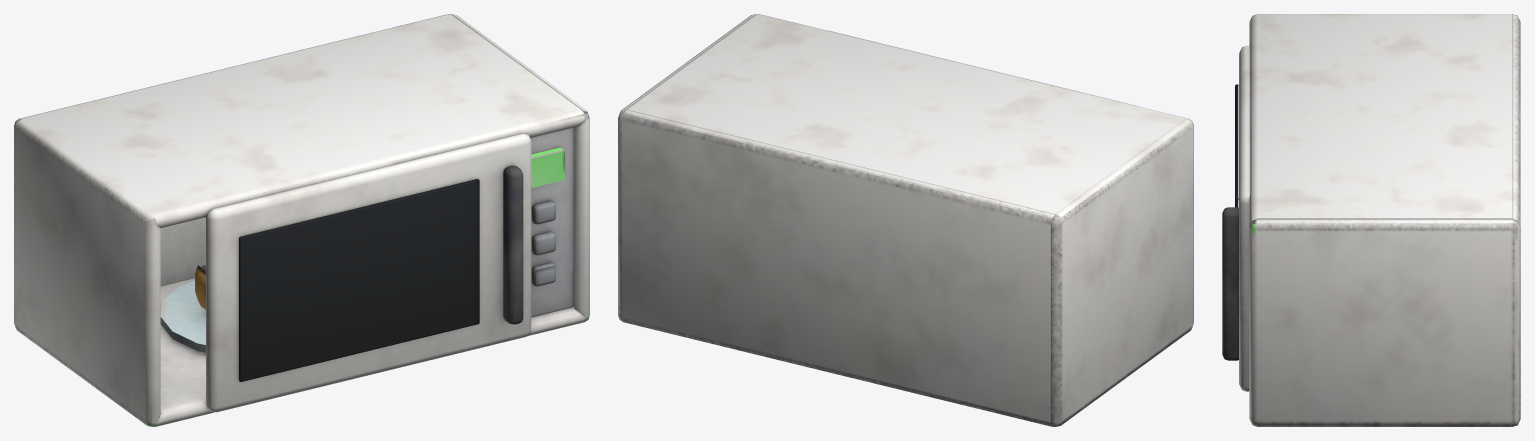
The model's file is microwave.fbx.
The picture shows the model from 3 angles, left to right: view 1: azimuth 30°, elevation 25°; view 2: azimuth 150°, elevation 25°; view 3: azimuth 270°, elevation 25°; orthographic projection. The views are drawn at different scales.
Parts seen in each view (by area): view 1: Body, Door, Spin, Button, Glow; view 2: Body; view 3: Body, Door.
Part boxes in pixels (<box>): Body: <box>14,14,589,426</box>; Door: <box>206,133,531,412</box>; Spin: <box>160,281,205,352</box>; Button: <box>532,200,555,286</box>; Glow: <box>531,147,564,187</box>; Body: <box>618,14,1193,426</box>; Body: <box>1249,14,1520,426</box>; Door: <box>1222,45,1250,391</box>.
Bounding box in the file's own units: 2.4 × 1.1 × 1.43.
Materials: 1 (1 with a texture image).
